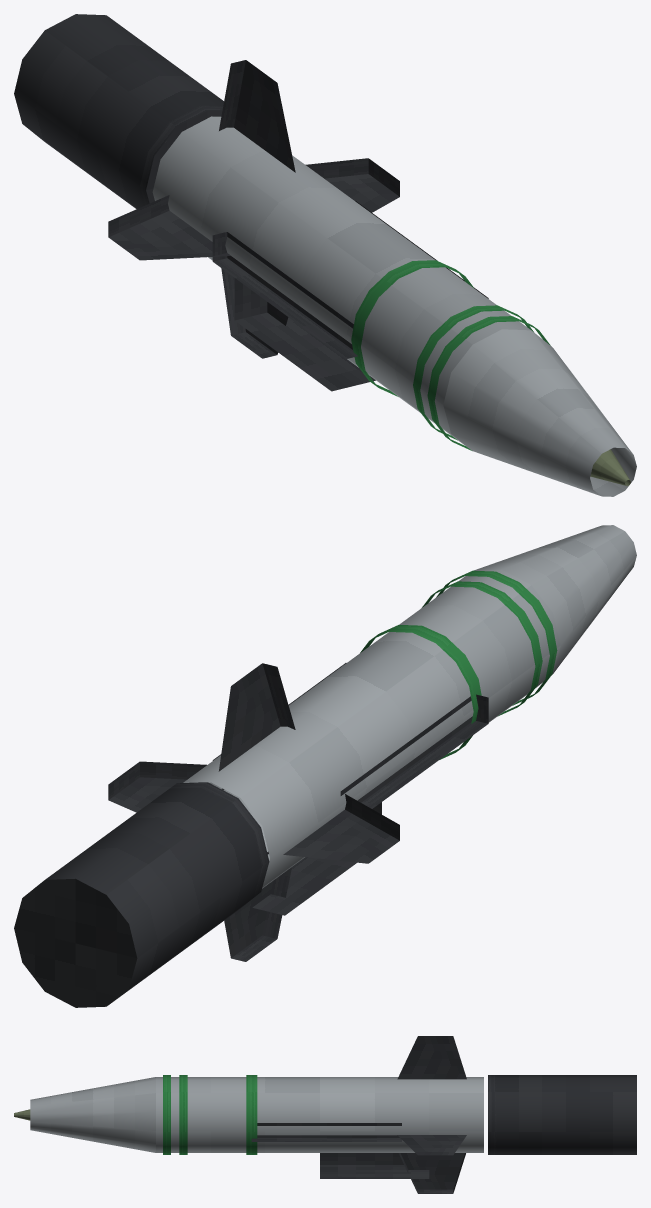
Rendered from missile_cruise_cluster.glb.
3 views of the same model, one above another, from view 1: azimuth 30°, elevation 25°; view 2: azimuth 150°, elevation 25°; view 3: azimuth 270°, elevation 25° (orthographic). The views are drawn at different scales.
Parts seen in each view (by area): view 1: body; view 2: body; view 3: body.
Part boxes in pixels (x1,y1,x2,y2): body: [14, 14, 636, 496]; body: [14, 525, 636, 1007]; body: [14, 1036, 636, 1193].
Bounding box in the file's own units: 0.62 × 0.62 × 2.28.
1 material, 1 textured.
